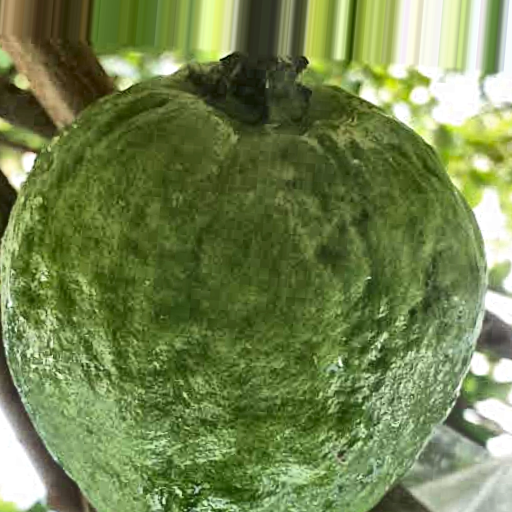guava: (0, 63, 439, 512)
